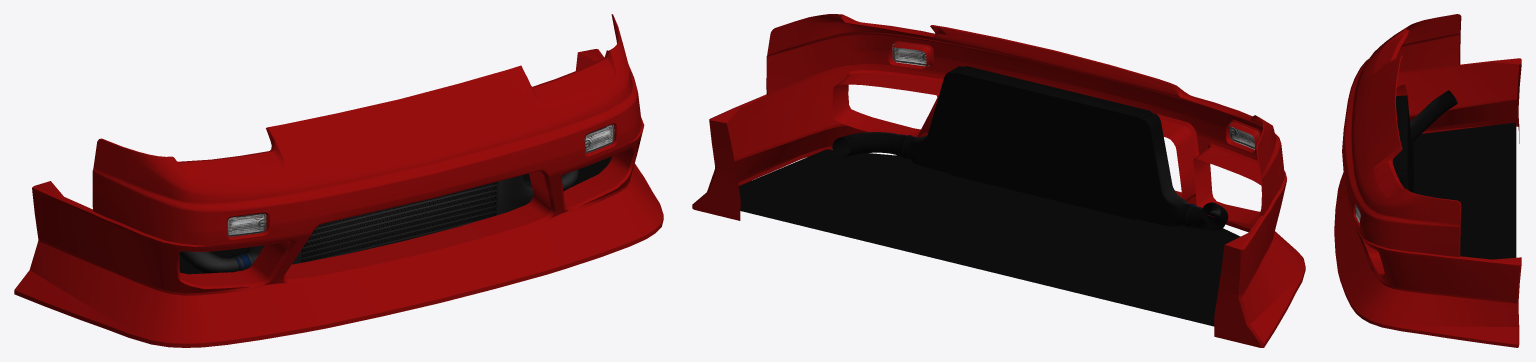
File: frontbumper_dmax.glb
The picture shows the model from 3 angles, left to right: view 1: azimuth 30°, elevation 25°; view 2: azimuth 150°, elevation 25°; view 3: azimuth 270°, elevation 25°; orthographic projection. The views are drawn at different scales.
Parts seen in each view (by area): view 1: Bumper, intercooler, Lamps, Undercarriage; view 2: Bumper, Undercarriage, intercooler, Lamps; view 3: Bumper, Undercarriage, intercooler.
Part boxes in pixels (x1,y1,x2,y2): Bumper: (14, 14, 663, 347); intercooler: (180, 169, 578, 273); Lamps: (227, 124, 614, 236); Undercarriage: (179, 156, 612, 274); Bumper: (692, 14, 1305, 347); Undercarriage: (738, 149, 1240, 326); intercooler: (832, 66, 1228, 231); Lamps: (892, 43, 1258, 149); Bumper: (1334, 14, 1521, 347); Undercarriage: (1413, 122, 1516, 259); intercooler: (1392, 90, 1457, 192).
Size of the model in its own units: 1.79 by 0.5122 by 0.6412.
4 materials, 2 textured.
